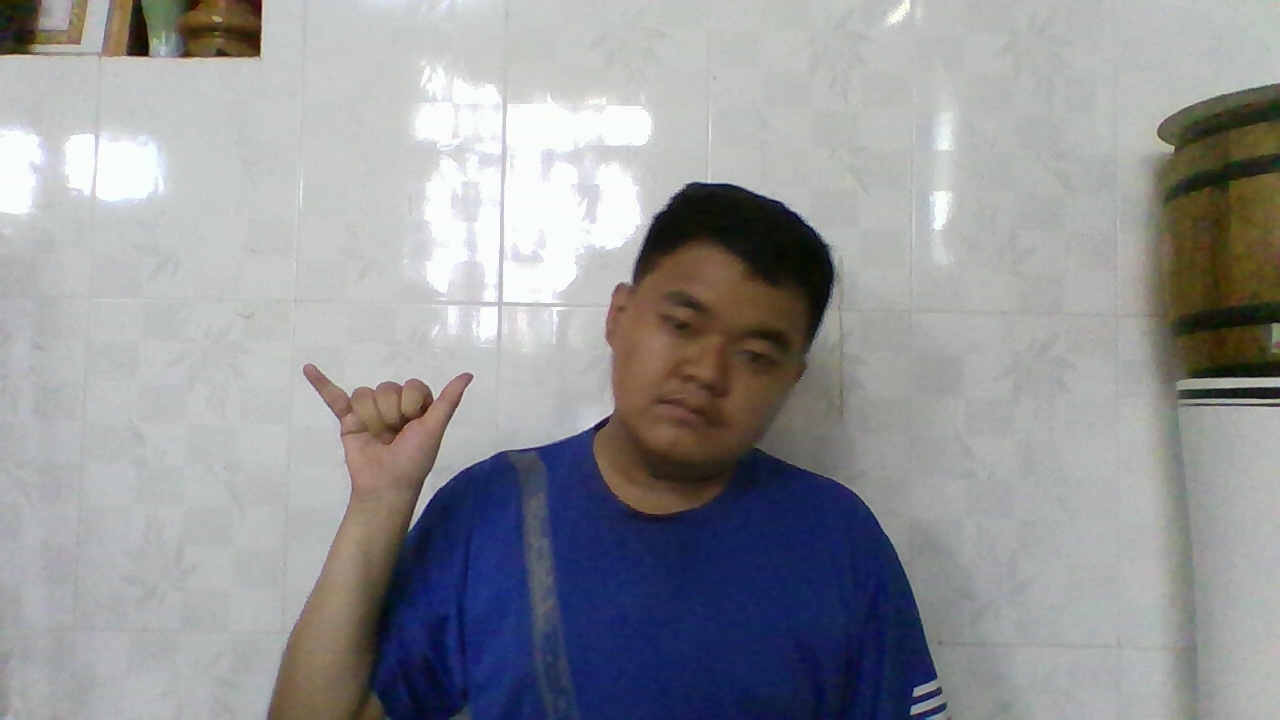Y: (292, 349, 480, 506)
